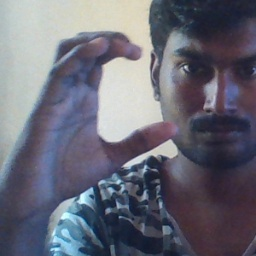C: (44, 27, 180, 167)
